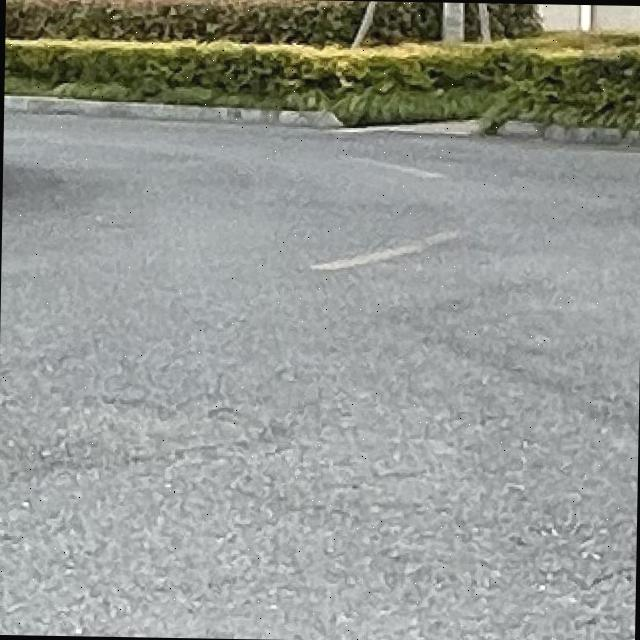curb: (4, 94, 342, 128), (496, 120, 640, 144)
